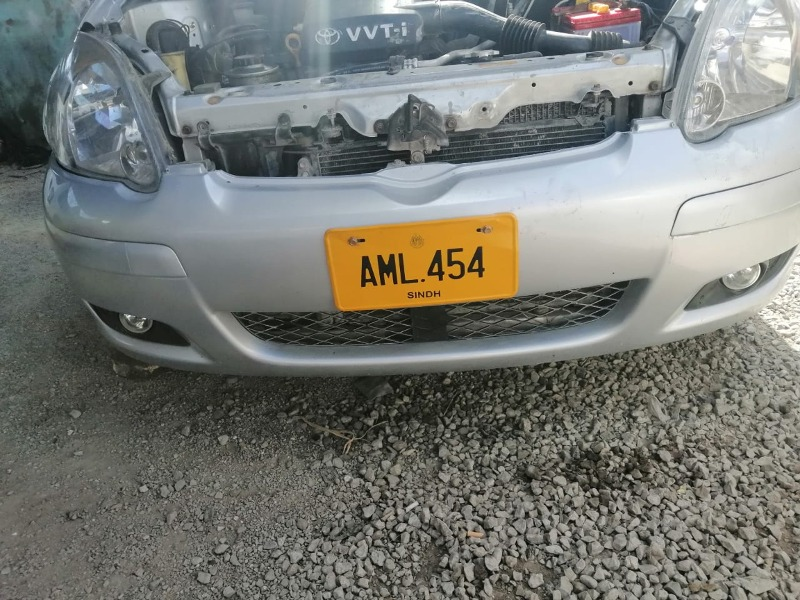License Plate: (322, 216, 517, 310)
